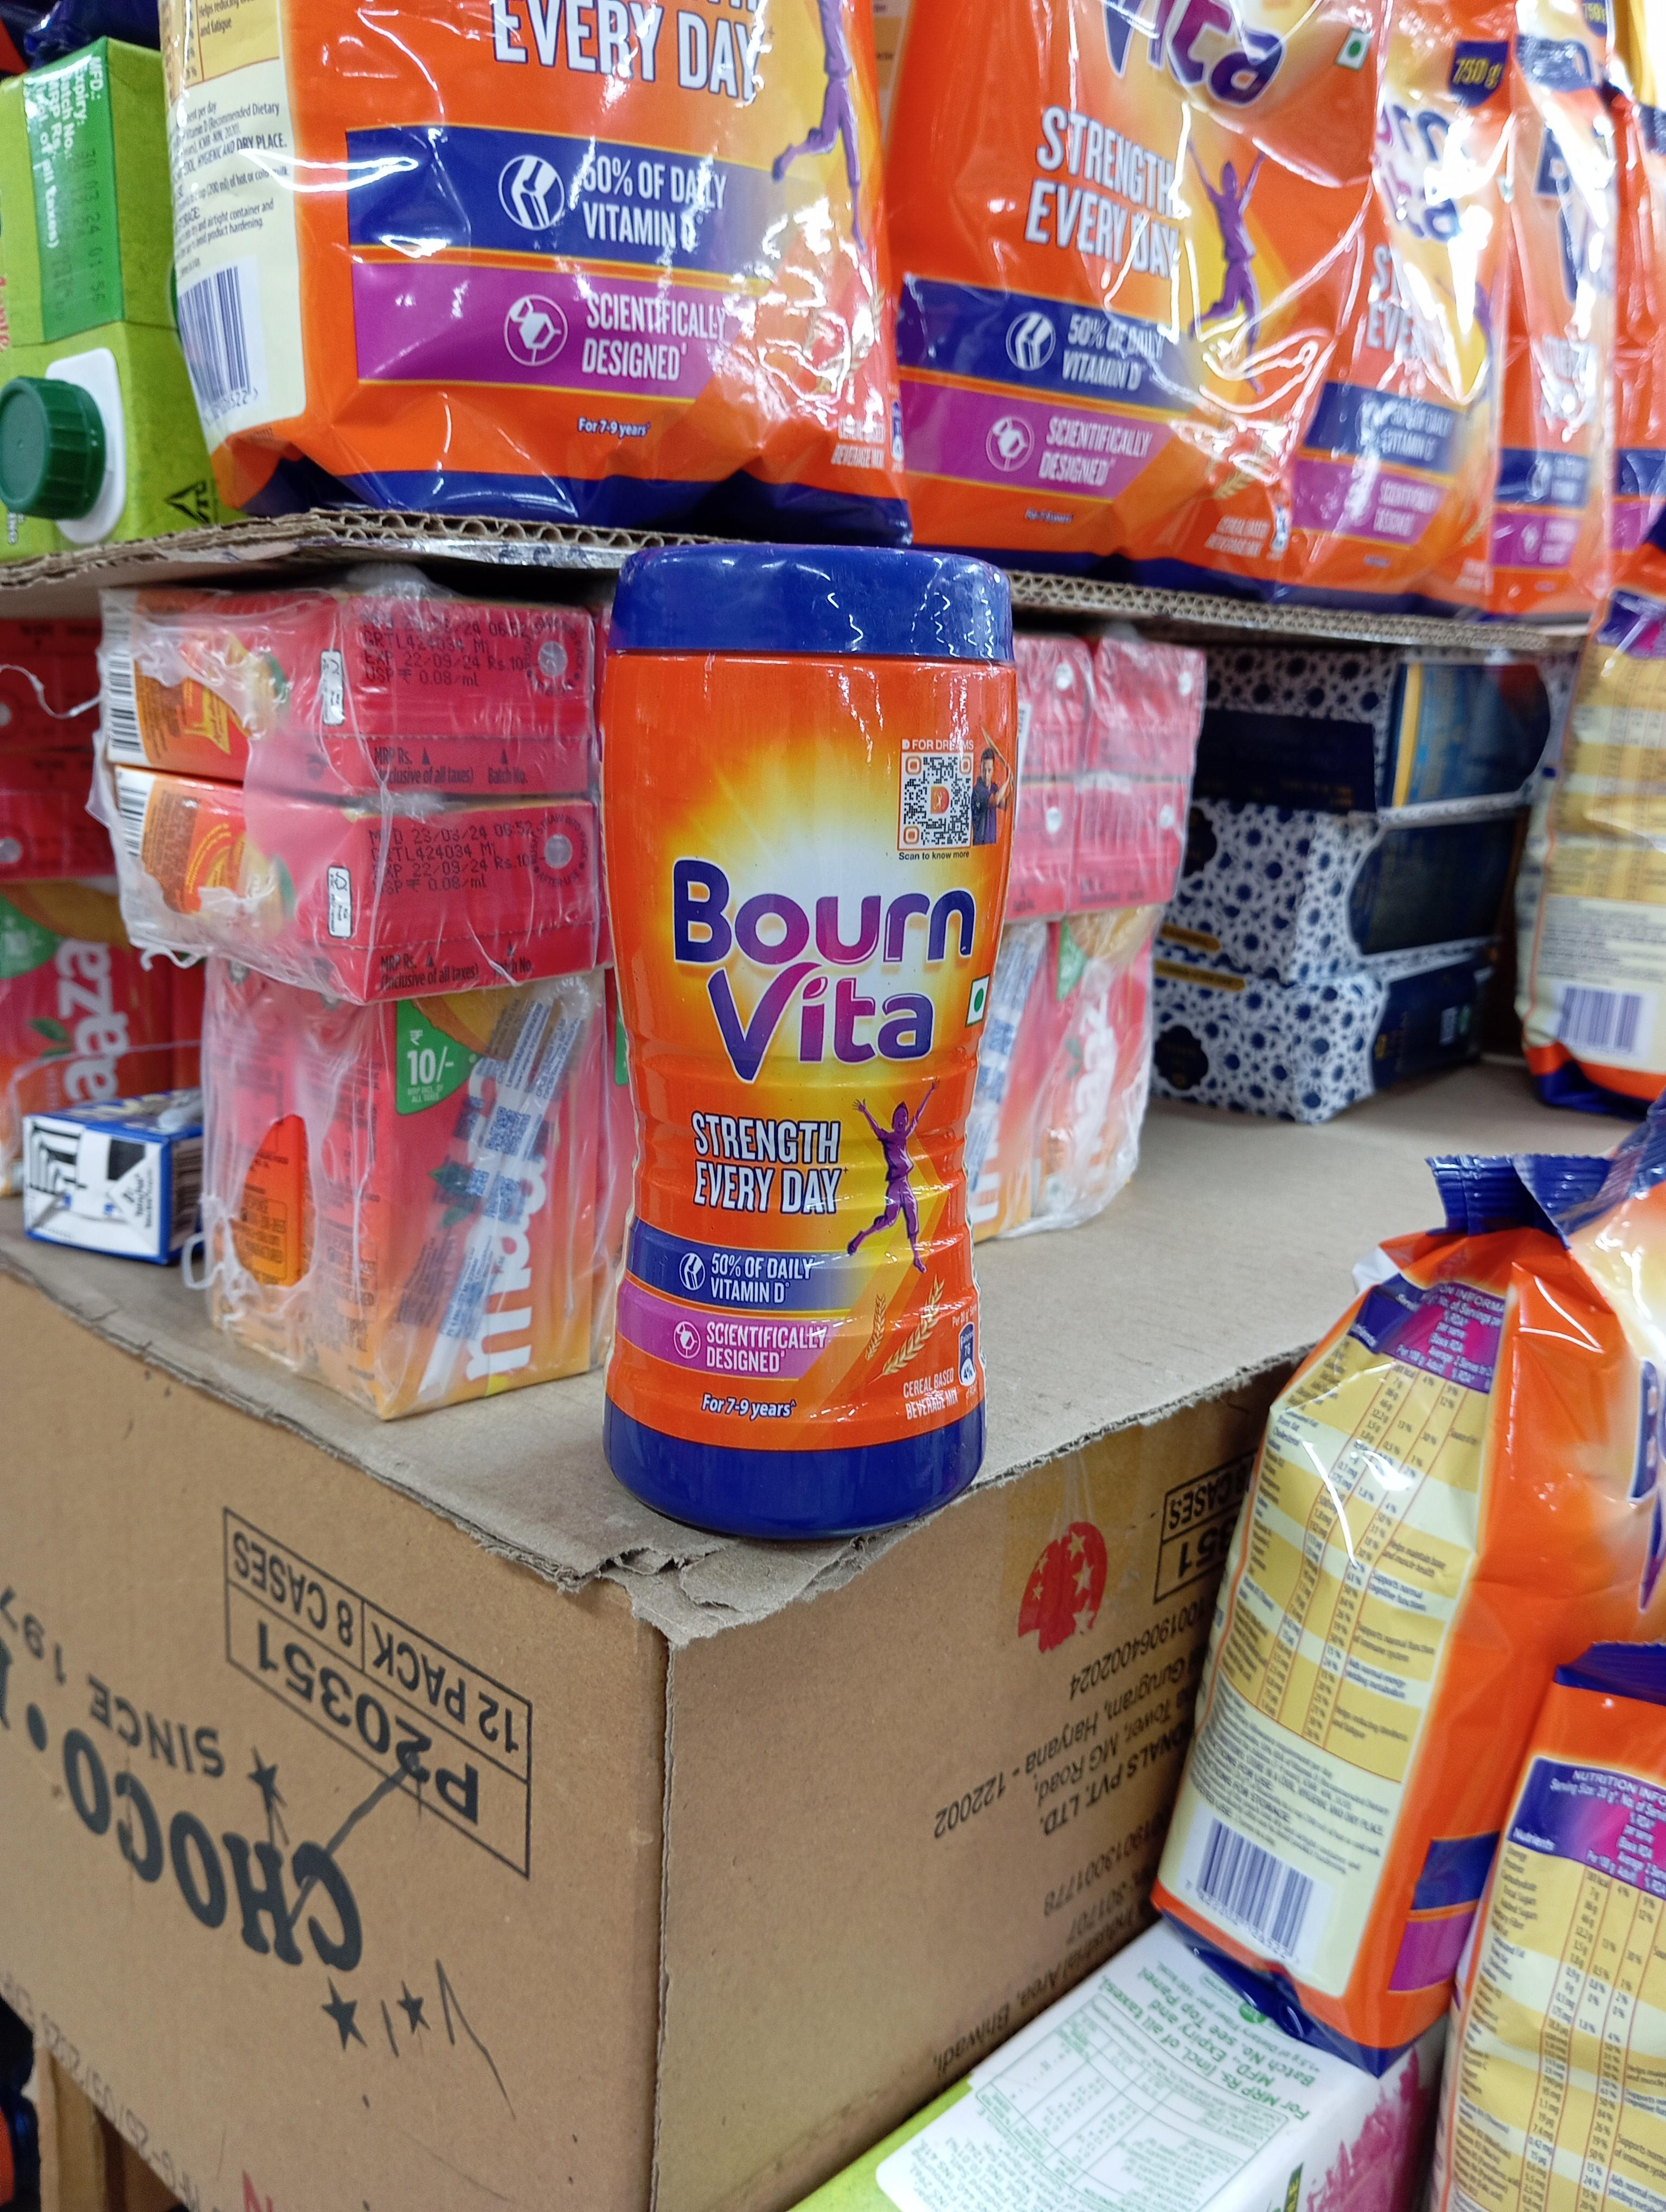BOURN_VITA_200_G_JAR: (623, 553, 992, 1518)
